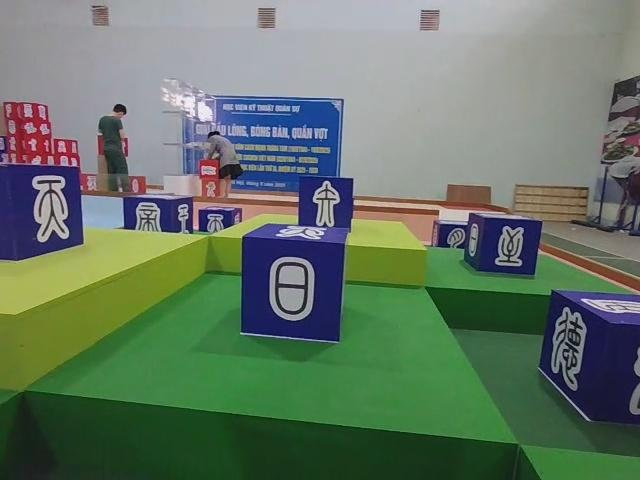R2 Fake Blue: (543, 290, 640, 433), (239, 223, 349, 345), (0, 164, 82, 264), (464, 214, 543, 279), (300, 177, 356, 234), (123, 195, 194, 235), (198, 206, 242, 233), (429, 219, 467, 248)
